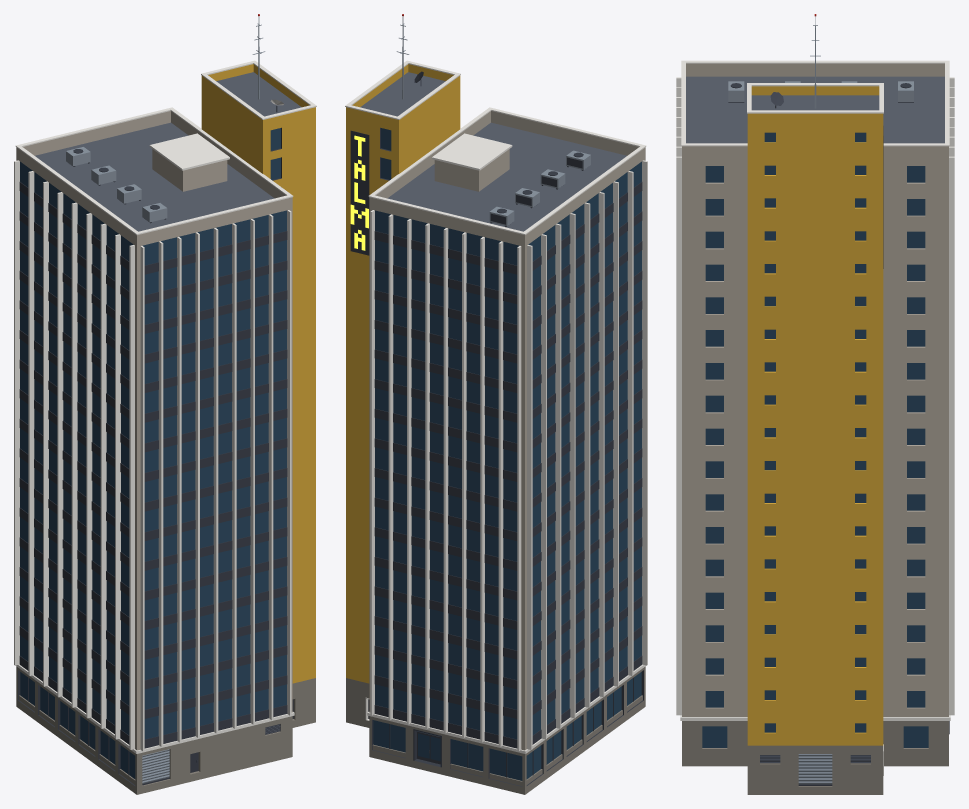
Rendered from office_f.glb.
3 renders of one model, left to right at view 1: azimuth 30°, elevation 25°; view 2: azimuth 150°, elevation 25°; view 3: azimuth 270°, elevation 25°, orthographic. The views are drawn at different scales.
Visible parts, largest first — view 1: Building, Building_Glass, Building_Detail; view 2: Building, Building_Glass, Building_Detail, Building_Neon; view 3: Building, Building_Glass, Building_Detail.
Part boxes in pixels (x1,y1,x2,y2): Building: [14, 60, 316, 794]; Building_Glass: [20, 128, 286, 778]; Building_Detail: [66, 14, 283, 762]; Building: [345, 60, 647, 794]; Building_Glass: [373, 128, 641, 780]; Building_Detail: [350, 14, 590, 753]; Building_Neon: [350, 135, 368, 250]; Building: [676, 60, 954, 794]; Building_Glass: [702, 132, 928, 747]; Building_Detail: [728, 14, 913, 268].
Bounding box in the file's own units: 24.16 × 74.76 × 24.6.
